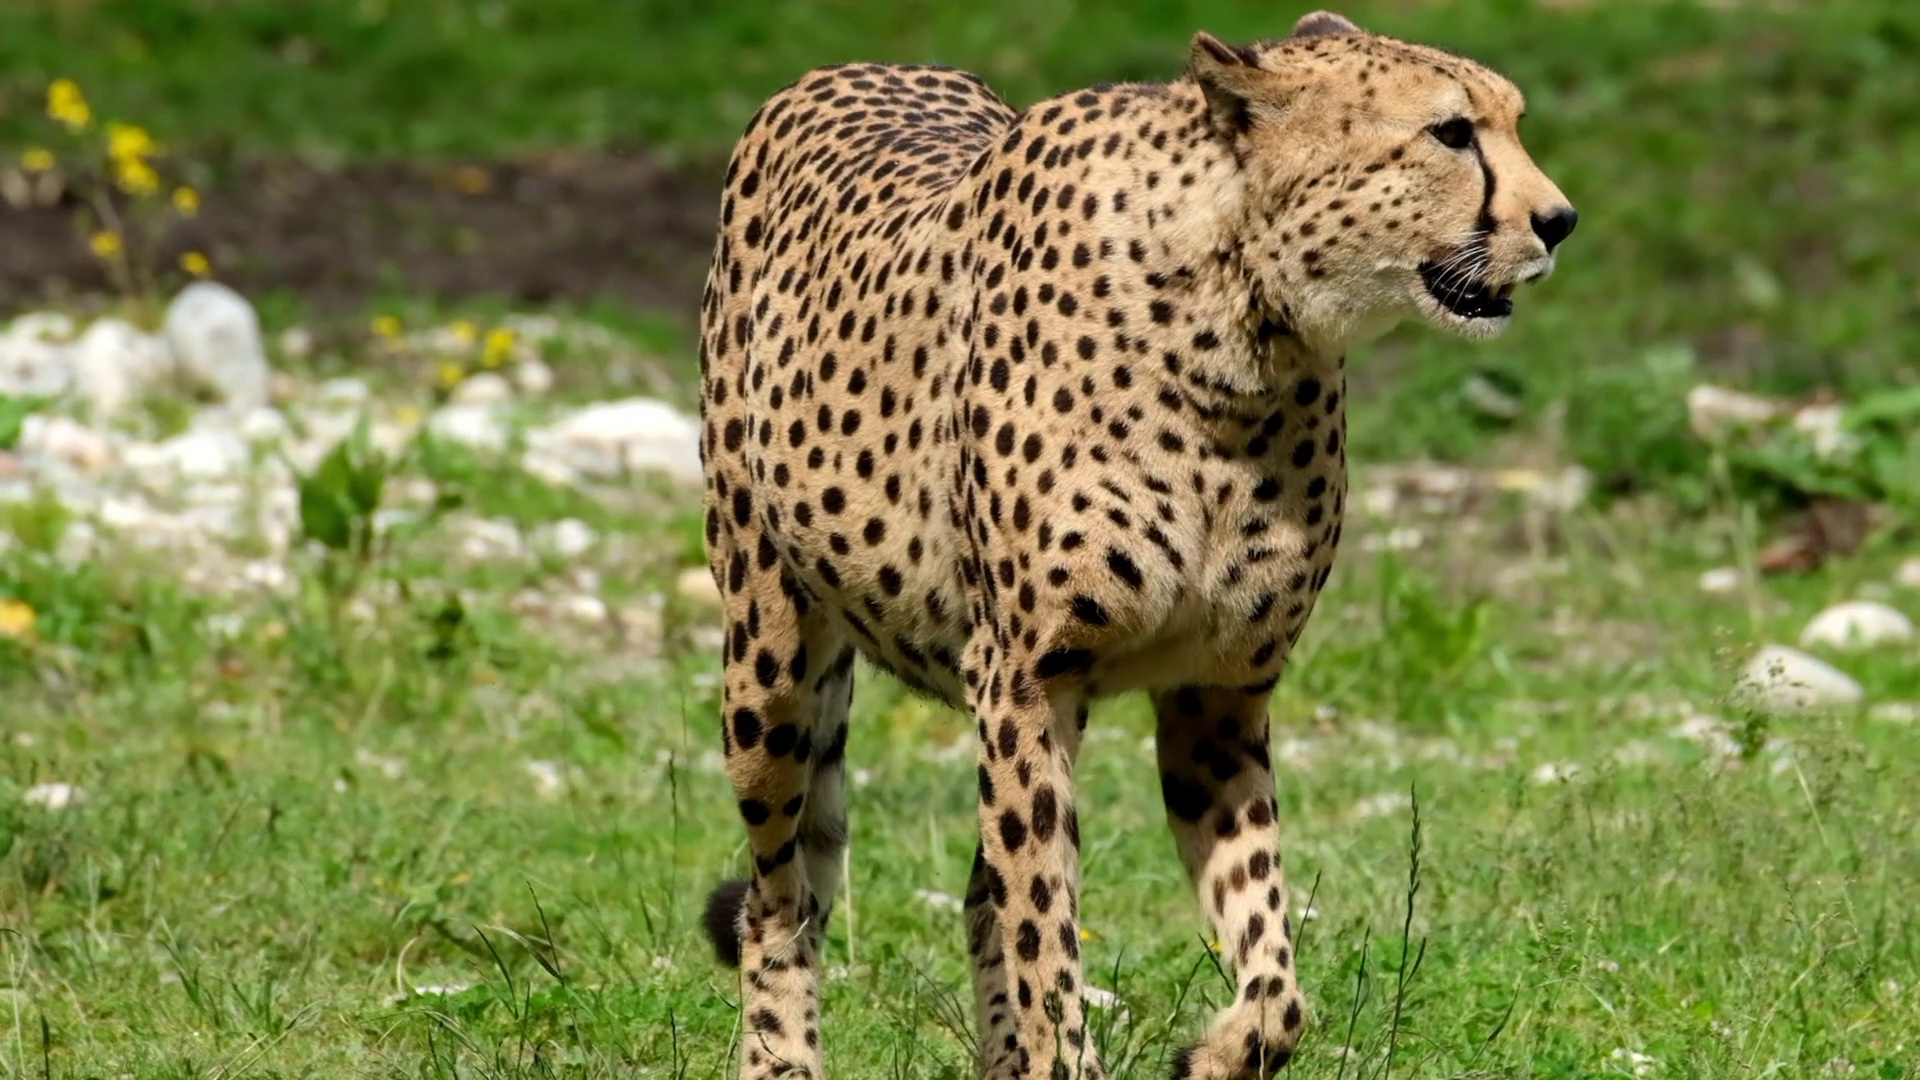Cheetah: (682, 9, 1585, 1080)
